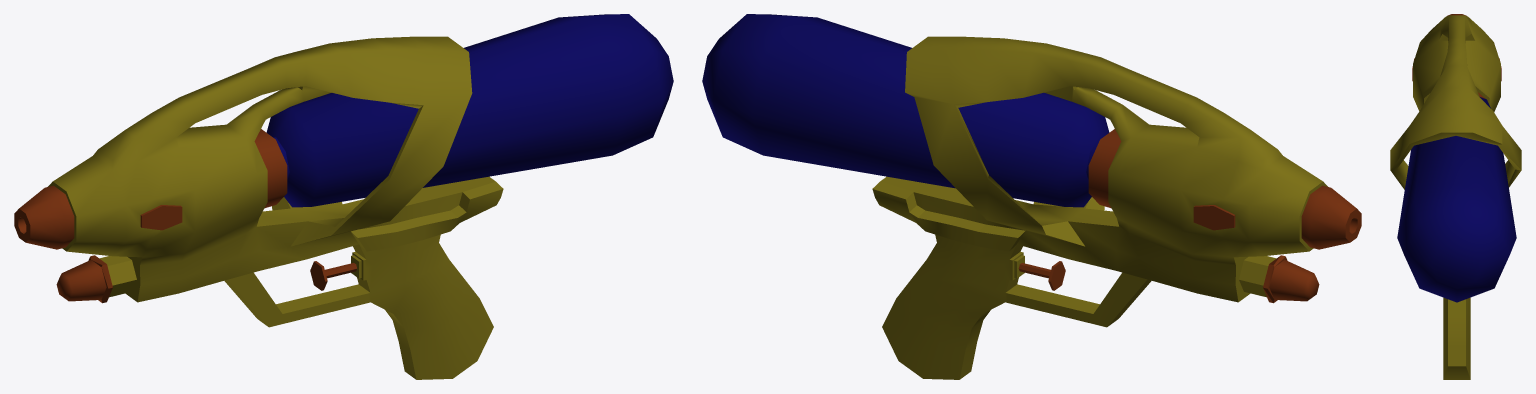
File: Game4_WaterGun.fbx
3 renders of one model, left to right at view 1: azimuth 30°, elevation 25°; view 2: azimuth 150°, elevation 25°; view 3: azimuth 270°, elevation 25°, orthographic. The views are drawn at different scales.
Visible parts, largest first — view 1: WeaponMain, WeaponTrigger; view 2: WeaponMain, WeaponTrigger; view 3: WeaponMain.
Part boxes in pixels (x1,y1,x2,y2): WeaponMain: (14,14,673,379); WeaponTrigger: (310,261,357,290); WeaponMain: (702,14,1361,379); WeaponTrigger: (1018,261,1065,290); WeaponMain: (1390,14,1521,379).
Size of the model in its own units: 12.06 by 6.37 by 2.77.
